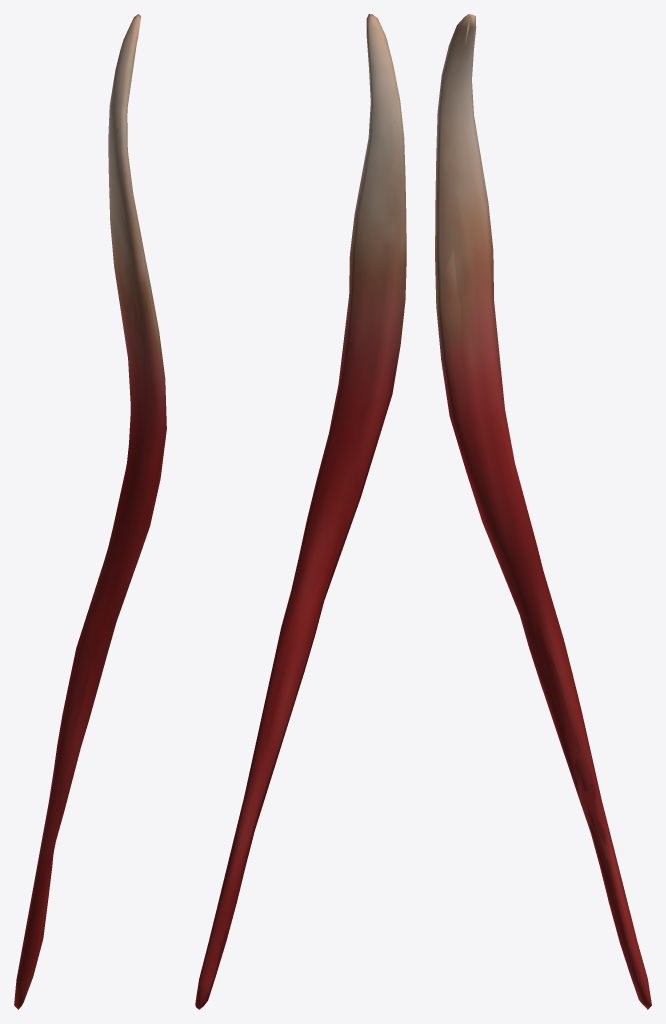
Rendered from R Brachioradialis.fbx.
3 renders of one model, left to right at view 1: azimuth 90°, elevation 25°; view 2: azimuth 150°, elevation 25°; view 3: azimuth 330°, elevation 25°, orthographic. The views are drawn at different scales.
Visible parts, largest first — view 1: R Brachioradialis, R Brachioradialis low, R Brachioradialis high; view 2: R Brachioradialis, R Brachioradialis low, R Brachioradialis high; view 3: R Brachioradialis, R Brachioradialis low, R Brachioradialis high.
Boxes of the visible parts, x1,y1,x2,y2 form: R Brachioradialis: (14, 14, 166, 1009); R Brachioradialis low: (17, 16, 166, 1006); R Brachioradialis high: (22, 29, 164, 995); R Brachioradialis: (195, 14, 406, 1009); R Brachioradialis low: (198, 17, 403, 1005); R Brachioradialis high: (208, 26, 402, 993); R Brachioradialis: (435, 14, 651, 1009); R Brachioradialis low: (436, 14, 648, 1004); R Brachioradialis high: (437, 30, 642, 965).
Bounding box in the file's own units: 1.11 × 6.51 × 0.8546.
